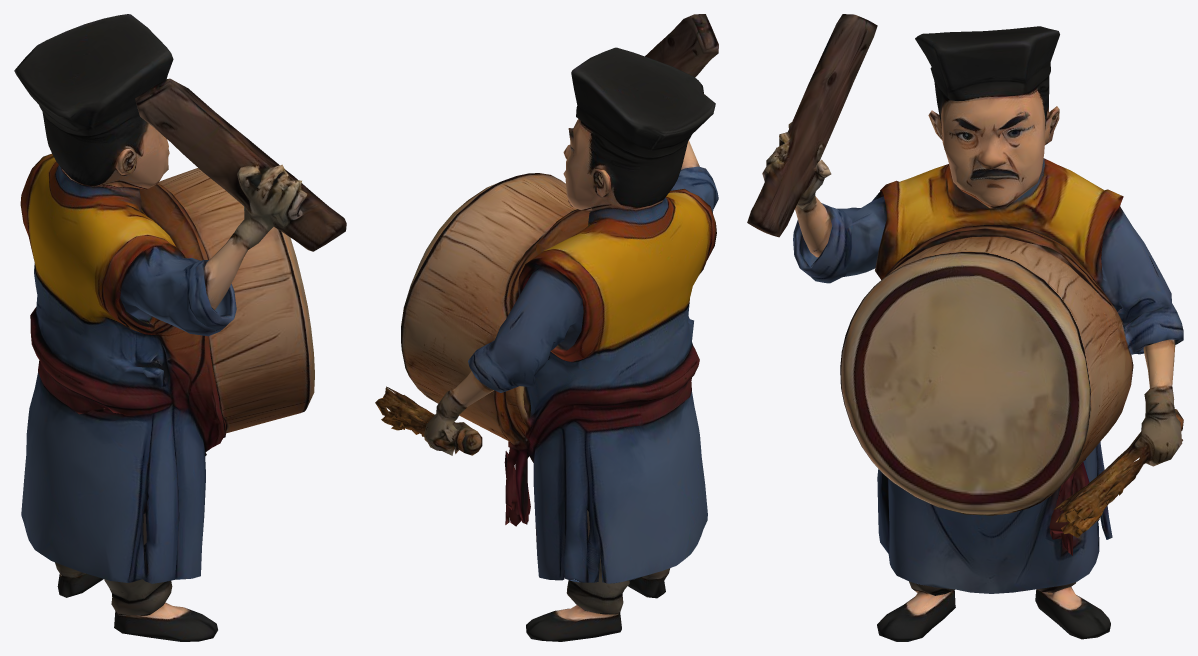
The model's file is p_b2p_fangxiaoxing.glb.
3 renders of one model, left to right at view 1: azimuth 30°, elevation 25°; view 2: azimuth 150°, elevation 25°; view 3: azimuth 270°, elevation 25°, orthographic. The views are drawn at different scales.
Visible parts, largest first — view 1: tripo_node_88138d70-ae8b-41b3-a81a-ae666a717882; view 2: tripo_node_88138d70-ae8b-41b3-a81a-ae666a717882; view 3: tripo_node_88138d70-ae8b-41b3-a81a-ae666a717882.
Part boxes in pixels (bbox=[...]): tripo_node_88138d70-ae8b-41b3-a81a-ae666a717882: bbox=[14, 14, 346, 641]; tripo_node_88138d70-ae8b-41b3-a81a-ae666a717882: bbox=[375, 14, 718, 641]; tripo_node_88138d70-ae8b-41b3-a81a-ae666a717882: bbox=[747, 14, 1183, 641].
Size of the model in its own units: 0.5277 by 1 by 0.6668.
Materials: 1 (1 with a texture image).
